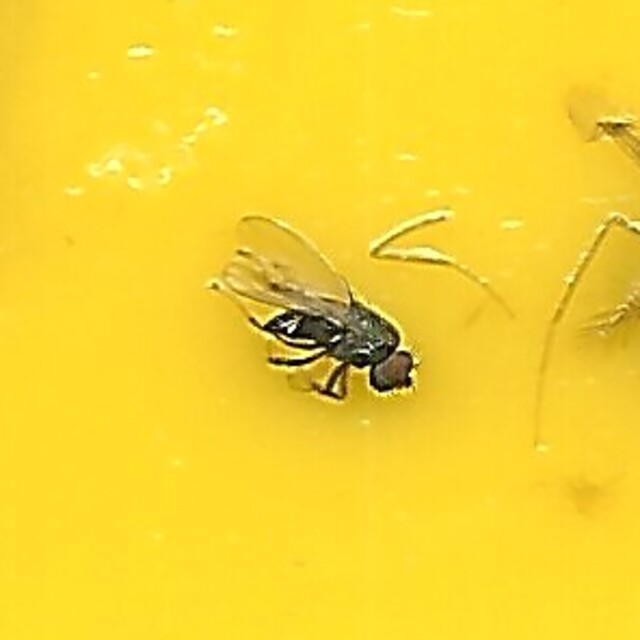Brachycera: (216, 219, 424, 421)
